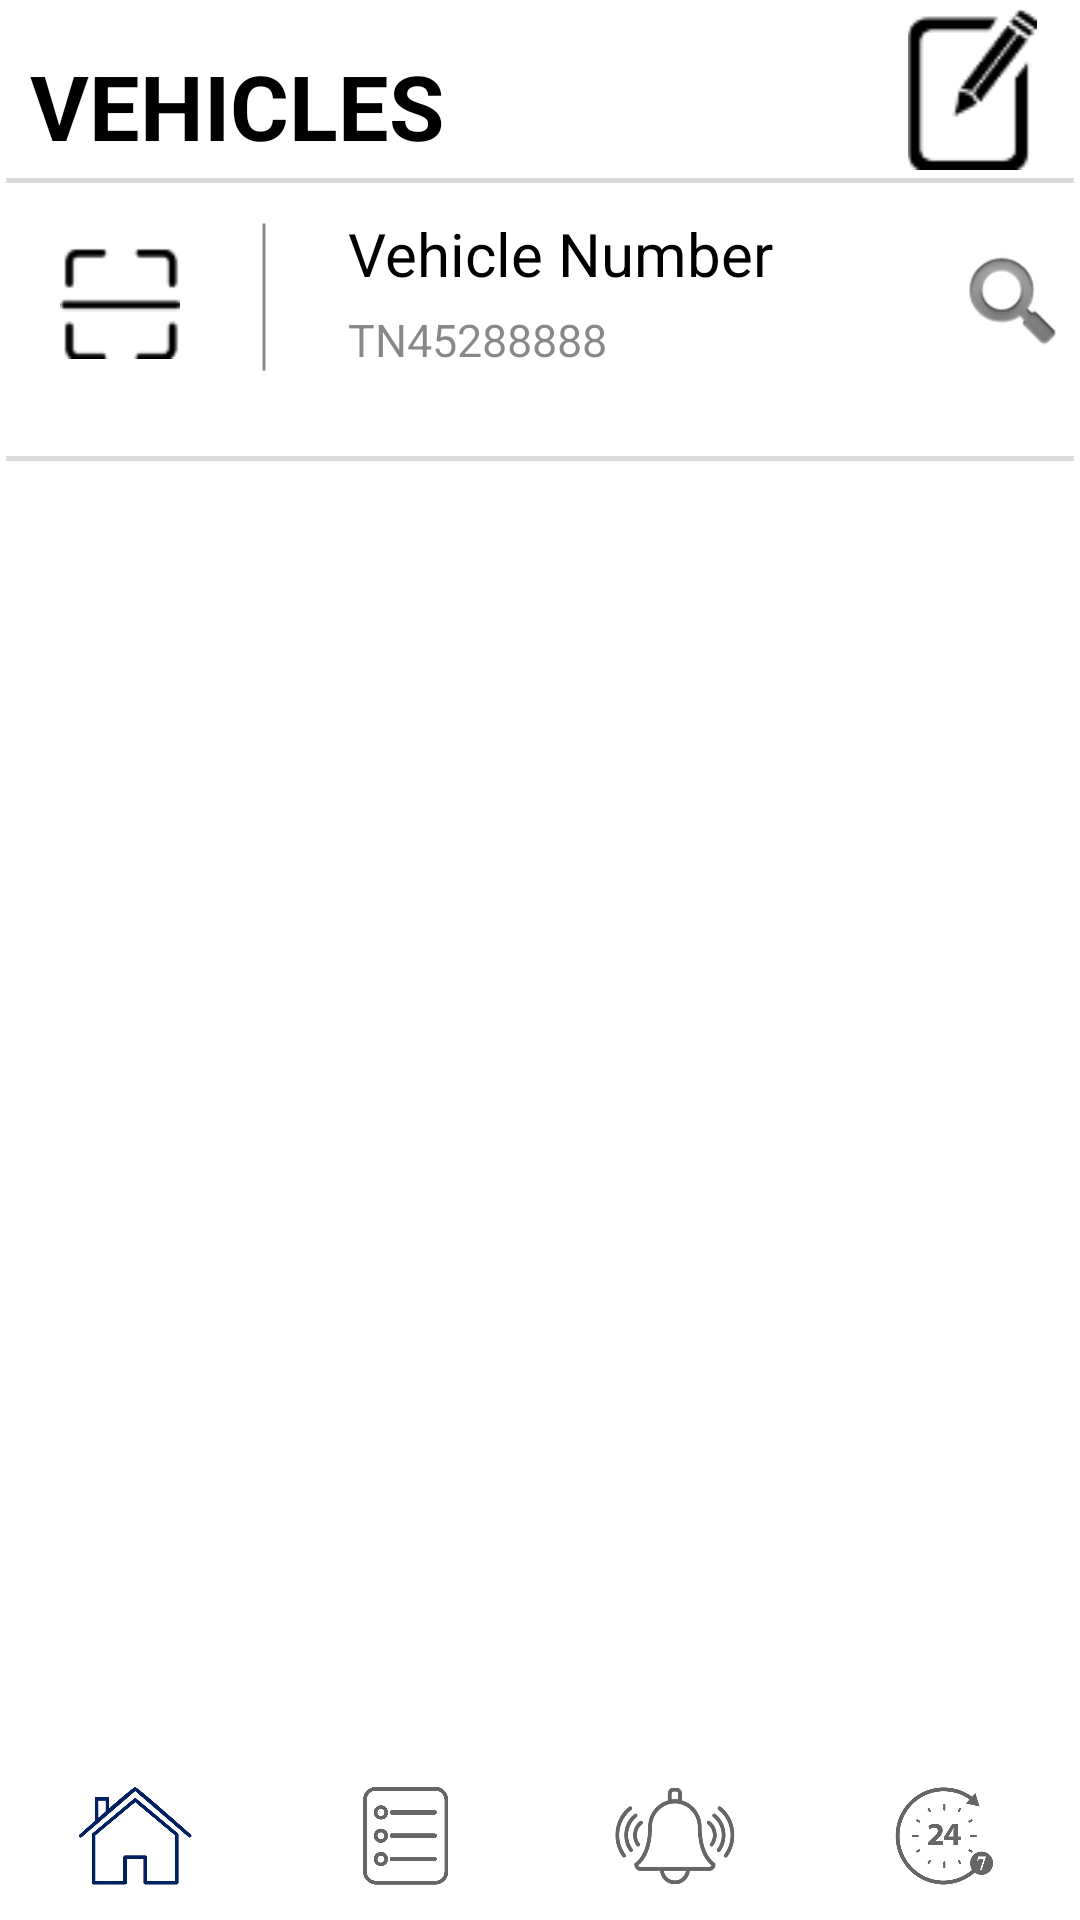

Icon bounding boxes for this 1080×1920 phone screenshot, format (x1,y1,x2,y2):
editvh: (908,10,1037,170)
search category: (969,258,1056,344)
